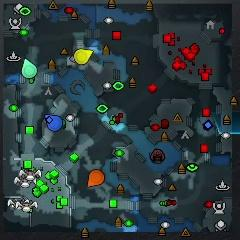p1: (43, 113, 63, 131)
p2: (22, 58, 37, 78)
p4: (73, 49, 93, 65)
p5: (87, 169, 104, 187)
